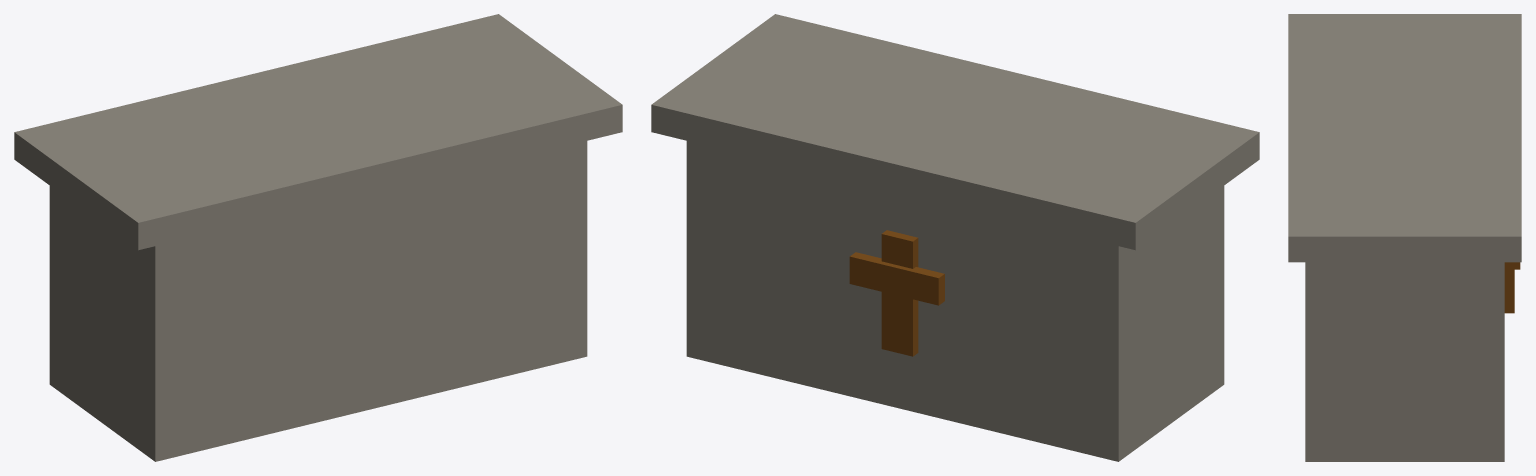
File: altar.obj
3 renders of one model, left to right at view 1: azimuth 30°, elevation 25°; view 2: azimuth 150°, elevation 25°; view 3: azimuth 270°, elevation 25°, orthographic. The views are drawn at different scales.
Parts seen in each view (by area): view 1: cuerpo, tablero; view 2: cuerpo, tablero, cruz_vertical, cruz_horizontal; view 3: tablero, cuerpo, cruz_vertical.
Boxes of the visible parts, <box> form: cuerpo: <box>49,141,587,461</box>; tablero: <box>14,14,622,250</box>; cuerpo: <box>686,141,1224,461</box>; tablero: <box>651,14,1259,250</box>; cruz_vertical: <box>881,230,918,356</box>; cruz_horizontal: <box>849,252,944,305</box>; tablero: <box>1288,14,1521,262</box>; cuerpo: <box>1305,262,1504,461</box>; cruz_vertical: <box>1504,262,1514,313</box>.
Size of the model in its own units: 1.85 by 0.92 by 0.82.
